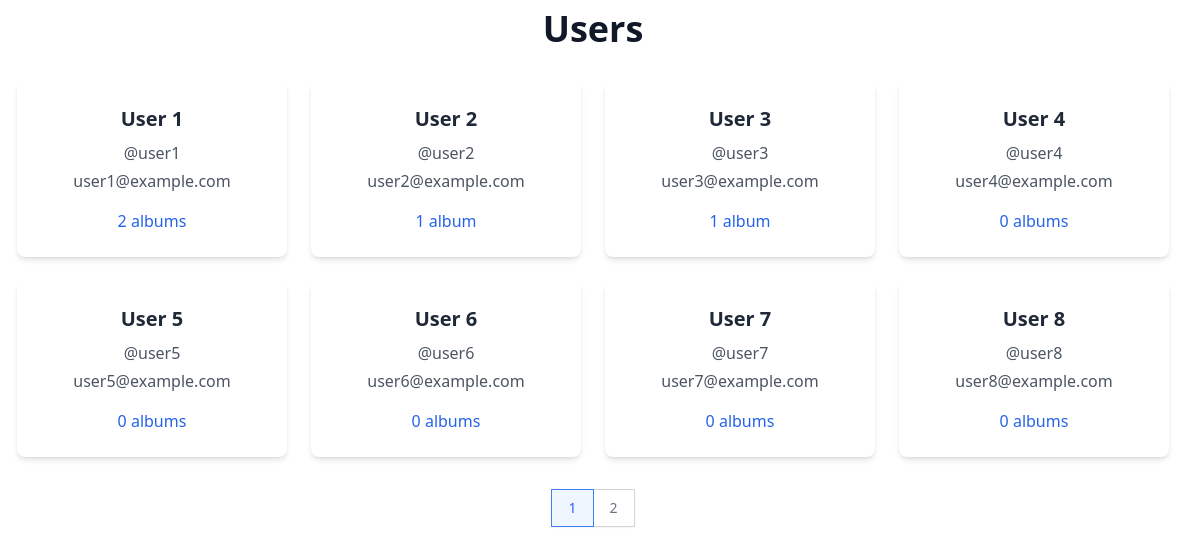
Test: Home Component › handles pagination correctly
Click the button "2". click: coordinates (614, 508)
box: [592,489,634,527]
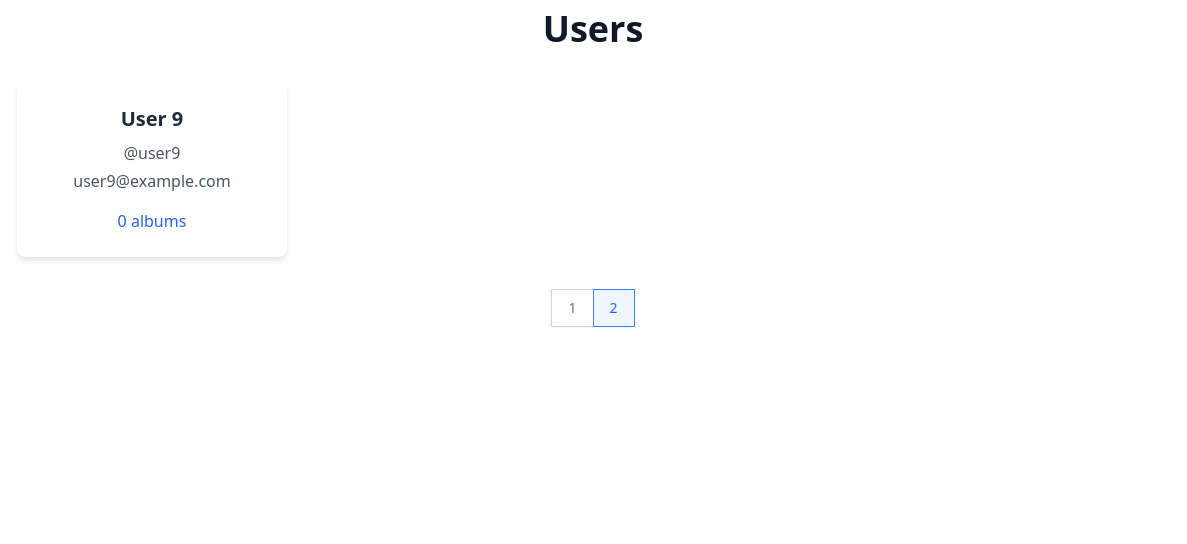
Result: the heading "User 9" is shown at [121,105,183,132]
